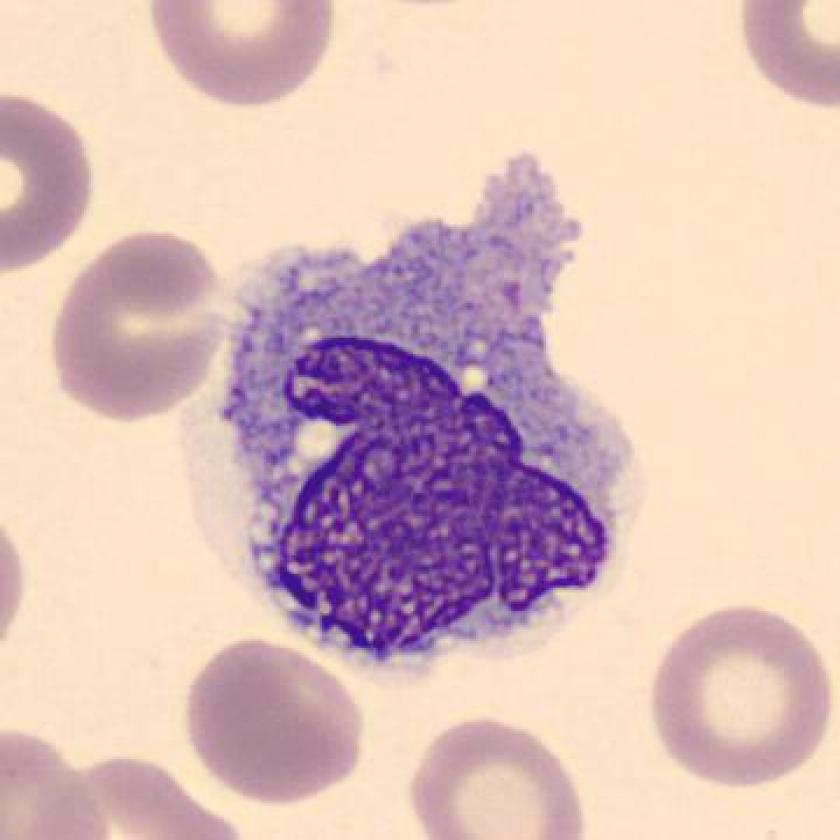monocyte: (176, 124, 678, 698)
